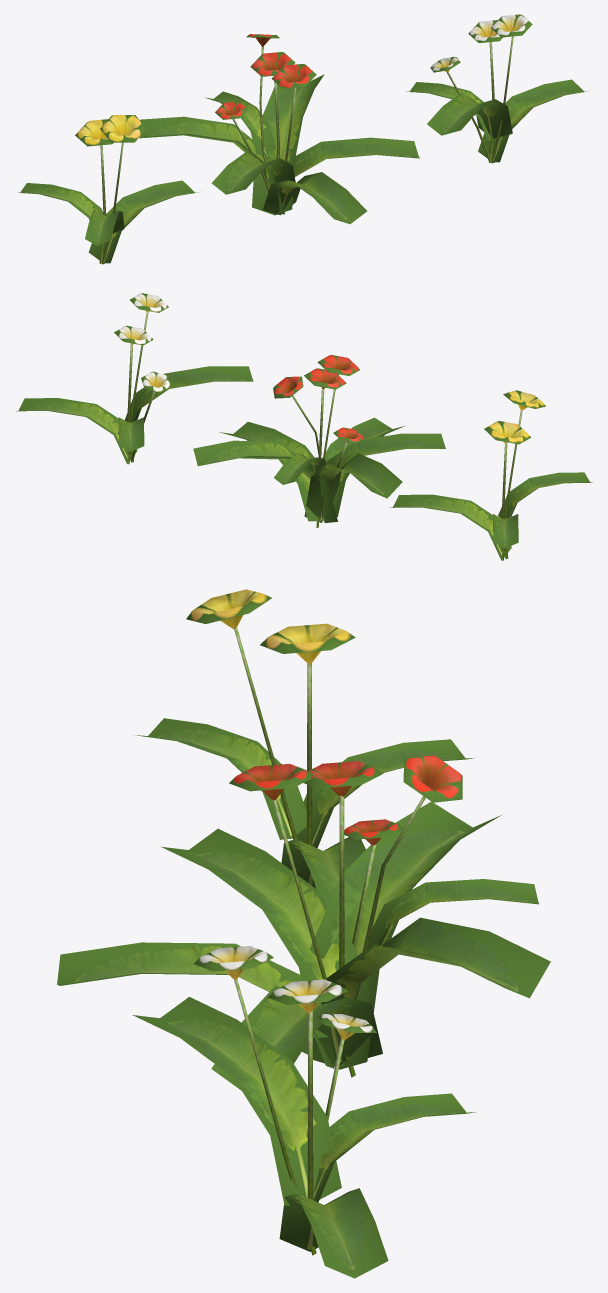
The model's file is p_hua.fbx.
3 views of the same model, one above another, from view 1: azimuth 30°, elevation 25°; view 2: azimuth 150°, elevation 25°; view 3: azimuth 270°, elevation 25° (orthographic). The views are drawn at different scales.
Visible parts, largest first — view 1: p_hua; view 2: p_hua; view 3: p_hua.
Part boxes in pixels (<box>): p_hua: <box>18,14,587,264</box>; p_hua: <box>16,293,592,560</box>; p_hua: <box>57,589,550,1278</box>.
Size of the model in its own units: 244 by 71.18 by 98.82.
1 material, 1 textured.
